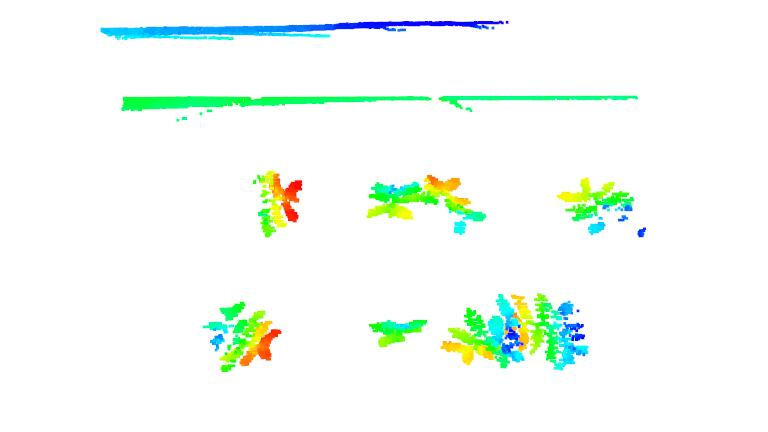chickpea: (496, 290, 589, 370), (202, 302, 284, 376), (556, 174, 634, 237), (442, 307, 510, 369), (249, 166, 306, 239), (423, 173, 485, 236), (367, 181, 430, 223), (367, 314, 426, 350)
